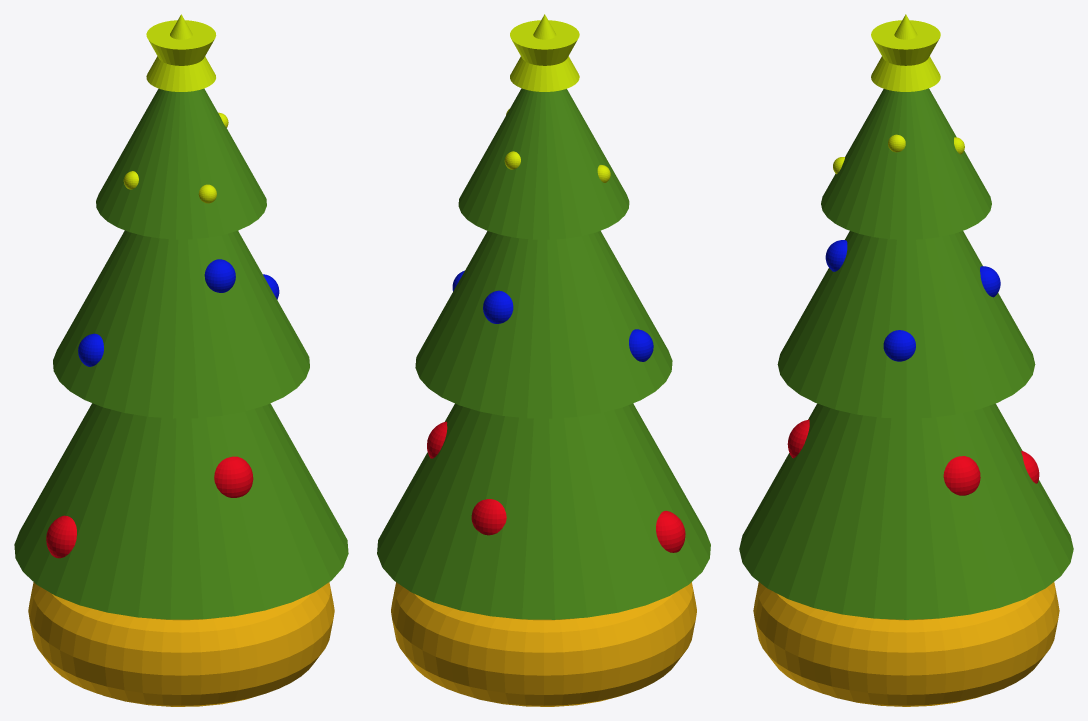
File: ChristmasTreeLP.fbx
3 renders of one model, left to right at view 1: azimuth 30°, elevation 25°; view 2: azimuth 150°, elevation 25°; view 3: azimuth 270°, elevation 25°, orthographic.
Parts seen in each view (by area): view 1: Cone.002, Cylinder.001, Cone.004, Sphere, Sphere.007, Sphere.010; view 2: Cone.002, Cylinder.001, Cone.004, Sphere, Sphere.007; view 3: Cone.002, Cylinder.001, Cone.004, Sphere, Sphere.007, Sphere.010.
Boxes of the visible parts, box(x1,y1,x2,y2) form: Cone.002: box(14, 88, 348, 619); Cylinder.001: box(28, 582, 334, 706); Cone.004: box(146, 14, 216, 91); Sphere: box(46, 456, 253, 558); Sphere.007: box(78, 259, 279, 366); Sphere.010: box(123, 112, 228, 203); Cone.002: box(377, 88, 710, 619); Cylinder.001: box(391, 582, 696, 706); Cone.004: box(510, 14, 579, 91); Sphere: box(427, 421, 685, 552); Sphere.007: box(452, 270, 653, 361); Cone.002: box(739, 88, 1073, 619); Cylinder.001: box(753, 582, 1059, 706); Cone.004: box(871, 14, 940, 91); Sphere: box(787, 419, 1039, 495); Sphere.007: box(825, 240, 1000, 361); Sphere.010: box(833, 134, 964, 174).
Bounding box in the file's own units: 958 × 2019 × 958.
